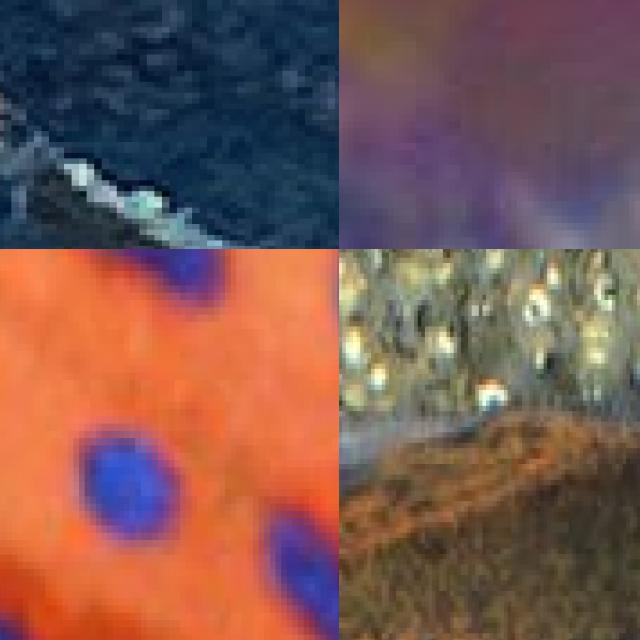fish: (0, 249, 339, 640), (339, 249, 640, 640), (0, 0, 339, 249), (339, 0, 640, 84)
